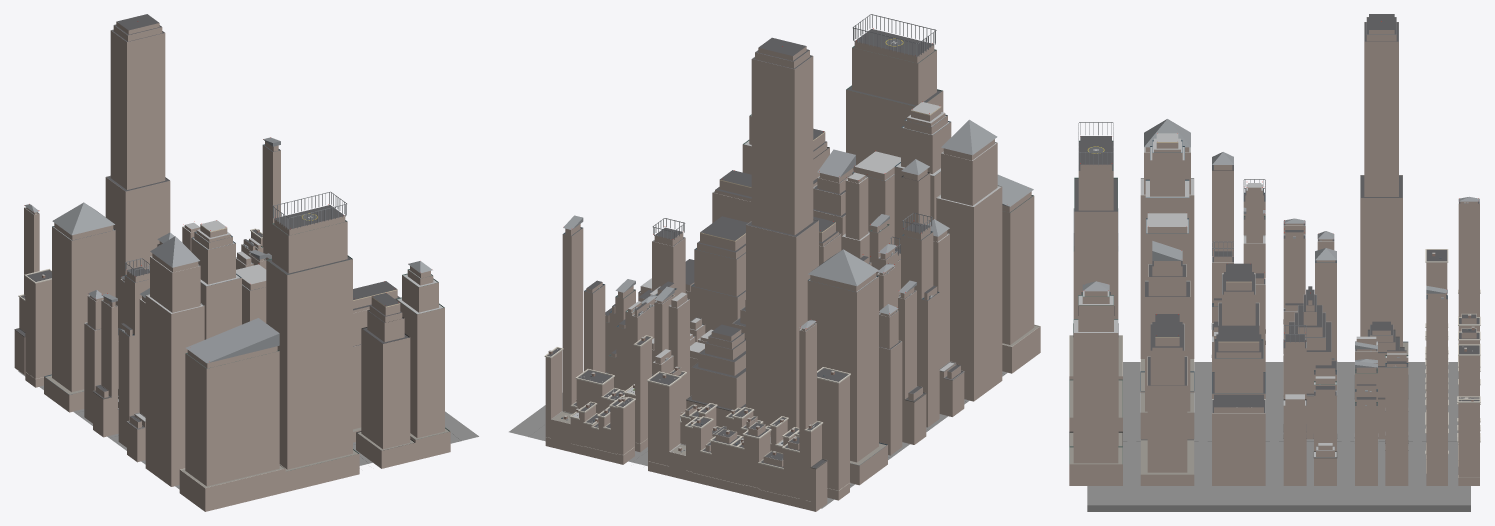
3 renders of one model, left to right at view 1: azimuth 30°, elevation 25°; view 2: azimuth 150°, elevation 25°; view 3: azimuth 270°, elevation 25°, orthographic. The views are drawn at different scales.
Visible parts, largest first — view 1: t32_facade, t32_roof, t32_detail, t32_ground; view 2: t32_facade, t32_roof, t32_detail, t32_ground; view 3: t32_facade, t32_ground, t32_roof, t32_detail.
Boxes of the visible parts, x1,y1,x2,y2 form: t32_facade: (14, 22, 450, 511); t32_roof: (16, 14, 449, 487); t32_detail: (14, 24, 450, 488); t32_ground: (18, 371, 478, 489); t32_facade: (545, 41, 1040, 511); t32_roof: (547, 14, 1038, 468); t32_detail: (544, 46, 1040, 501); t32_ground: (509, 371, 1007, 508); t32_facade: (1069, 30, 1479, 485); t32_ground: (1087, 362, 1470, 511); t32_roof: (1069, 14, 1479, 474); t32_detail: (1069, 17, 1480, 477).
Size of the model in its own units: 386 by 479 by 461.
